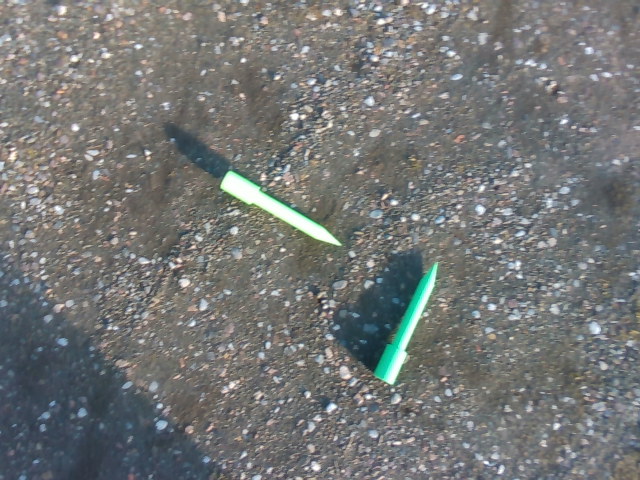Probe: (213, 164, 351, 254), (369, 259, 440, 392)
